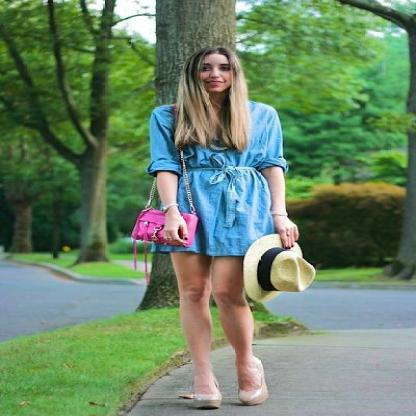bag: (124, 210, 197, 252)
dress: (149, 101, 286, 255)
hat: (242, 234, 315, 307)
shoe: (194, 369, 254, 405)
